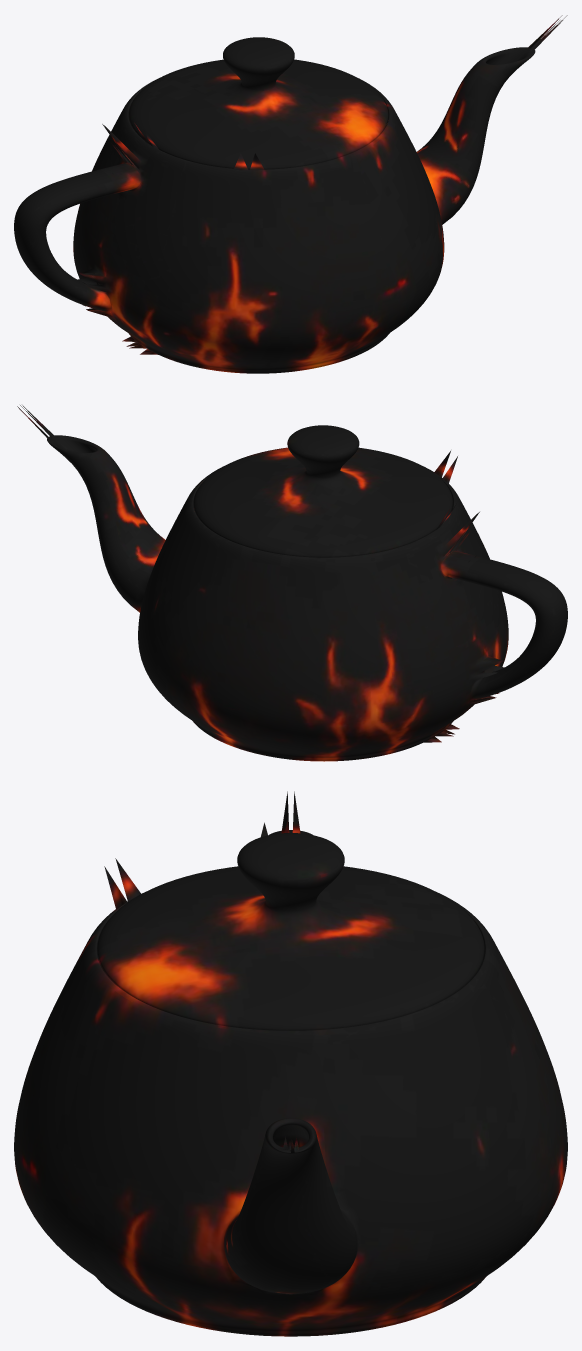
File: frame_0005.glb
The picture shows the model from 3 angles, top to bottom: view 1: azimuth 30°, elevation 25°; view 2: azimuth 150°, elevation 25°; view 3: azimuth 270°, elevation 25°; orthographic projection. The views are drawn at different scales.
Visible parts, largest first — view 1: world; view 2: world; view 3: world.
Boxes of the visible parts, bbox=[...] form: world: bbox=[14, 15, 567, 373]; world: bbox=[17, 405, 567, 761]; world: bbox=[14, 791, 567, 1336].
Bounding box in the file's own units: 1 × 0.4811 × 0.5823.
1 material, 1 textured.
